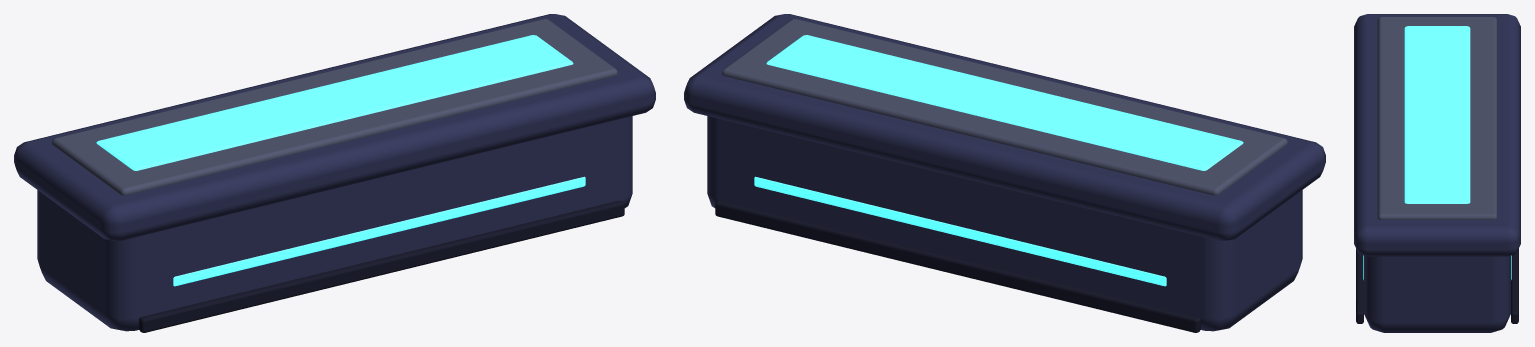
The model's file is int.doorbeam.emit_a.l0.95.glb.
3 views of the same model, side by side, from view 1: azimuth 30°, elevation 25°; view 2: azimuth 150°, elevation 25°; view 3: azimuth 270°, elevation 25° (orthographic). The views are drawn at different scales.
Parts seen in each view (by area): view 1: int.doorbeam.emit_a.l0.95; view 2: int.doorbeam.emit_a.l0.95; view 3: int.doorbeam.emit_a.l0.95.
Part boxes in pixels (x1,y1,x2,y2): int.doorbeam.emit_a.l0.95: (14,14,655,332); int.doorbeam.emit_a.l0.95: (684,14,1325,332); int.doorbeam.emit_a.l0.95: (1354,14,1520,332).
Size of the model in its own units: 0.79 by 0.201 by 0.25.
